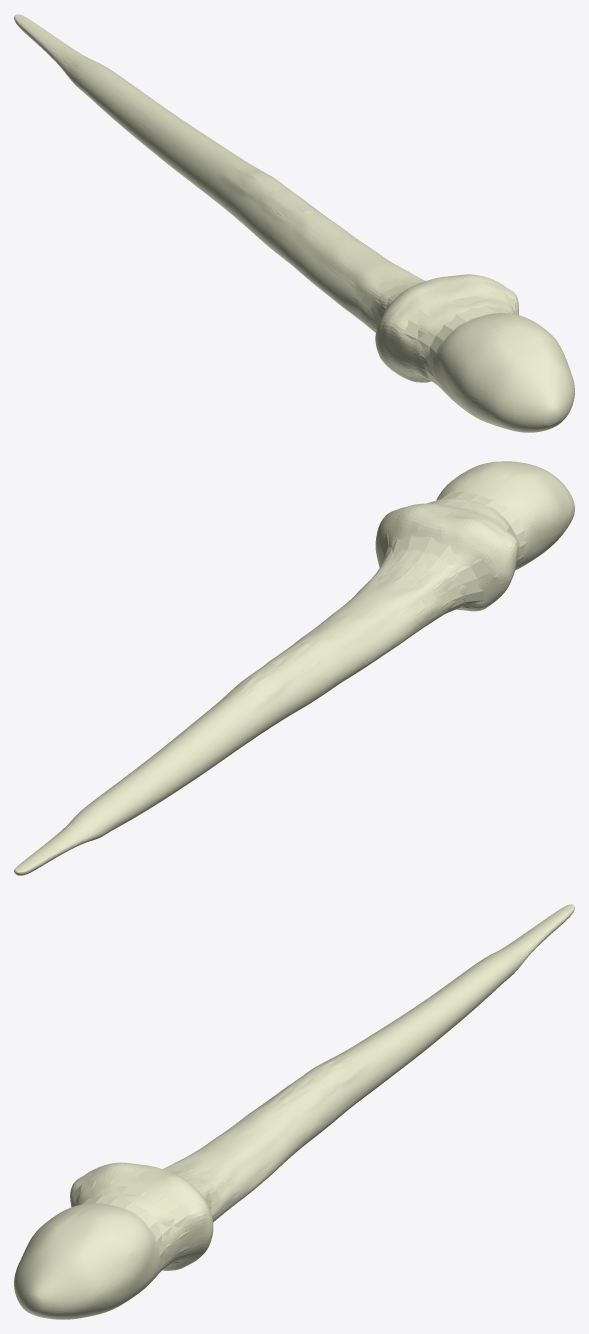
The model's file is LoveNuts_Sperm_01.fbx.
3 renders of one model, top to bottom at view 1: azimuth 30°, elevation 25°; view 2: azimuth 150°, elevation 25°; view 3: azimuth 330°, elevation 25°, orthographic.
Parts seen in each view (by area): view 1: Sphere, Retopo_Sphere; view 2: Sphere, Retopo_Sphere; view 3: Sphere, Retopo_Sphere.
Part boxes in pixels (<box>): Sphere: <box>14,14,574,432</box>; Retopo_Sphere: <box>27,20,559,394</box>; Sphere: <box>14,461,574,875</box>; Retopo_Sphere: <box>21,491,568,863</box>; Sphere: <box>14,904,574,1319</box>; Retopo_Sphere: <box>25,912,569,1285</box>.
Bounding box in the file's own units: 162 × 104 × 1121.
